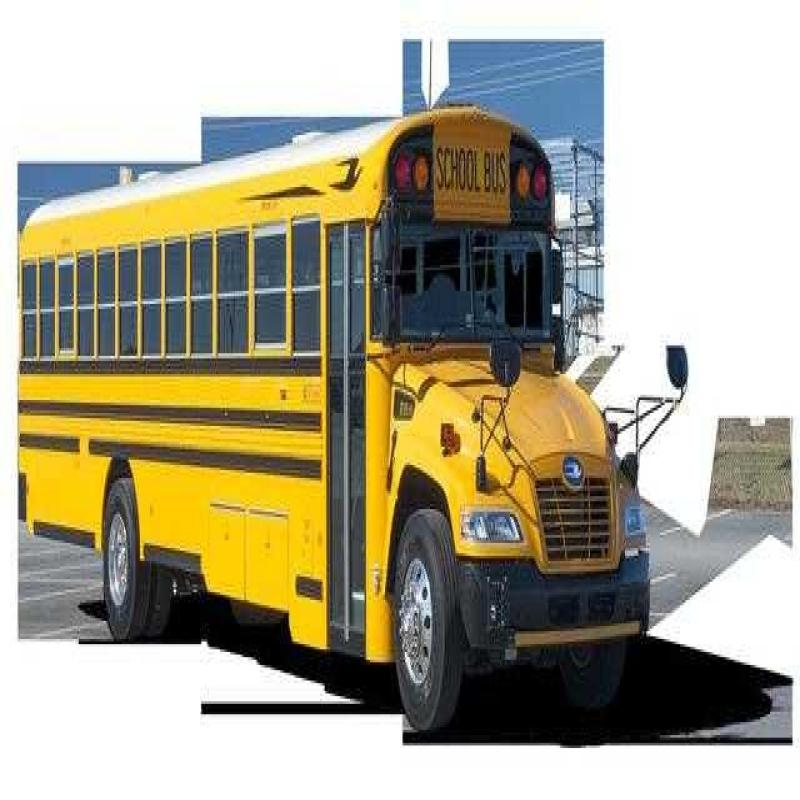bus: (12, 142, 672, 768)
